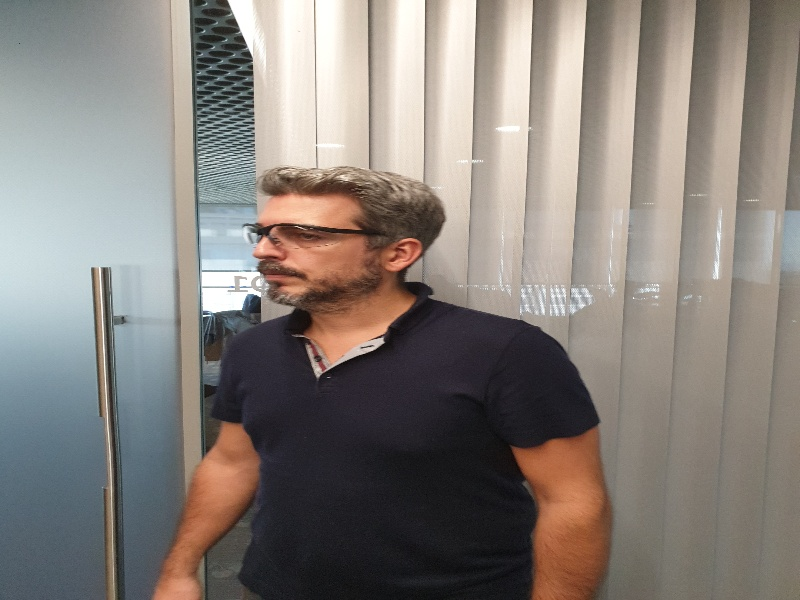Gozluk: (248, 222, 372, 246)
